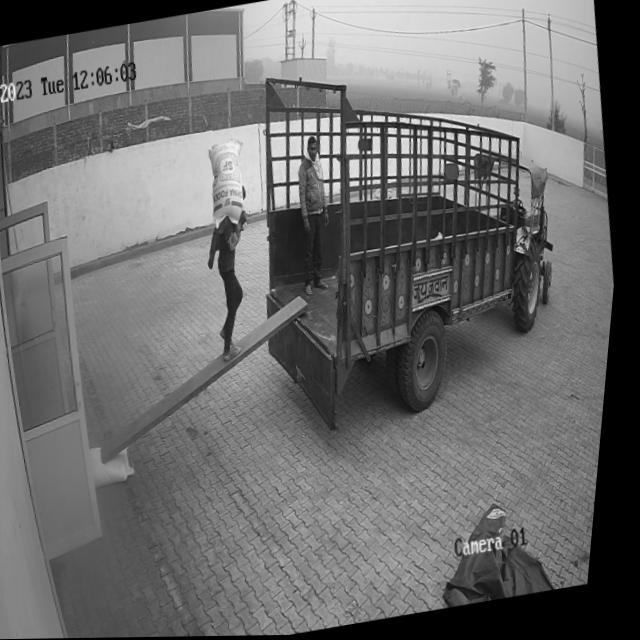sack: (203, 137, 258, 229), (95, 440, 146, 488)
